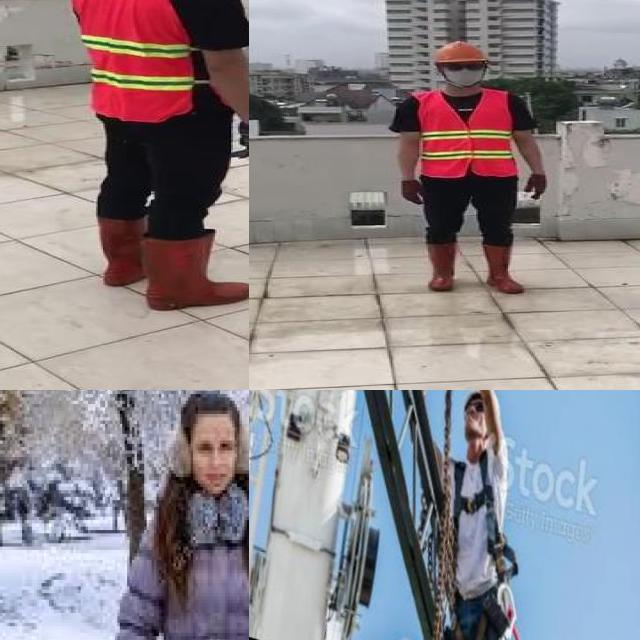Ear-protection: (161, 421, 193, 477), (229, 410, 249, 473)
Harness: (454, 452, 511, 578)
boots: (140, 231, 249, 311), (93, 217, 145, 290), (480, 245, 522, 295), (423, 240, 460, 292)
face_mask: (439, 59, 485, 86)
glasses: (437, 58, 487, 74)
hand_glove: (398, 181, 426, 207), (524, 172, 549, 199), (234, 121, 249, 164)
head_helmet: (386, 38, 560, 296), (424, 40, 490, 64)
person: (58, 0, 249, 315), (130, 394, 249, 640)
vest: (71, 0, 213, 123), (415, 89, 517, 179)
